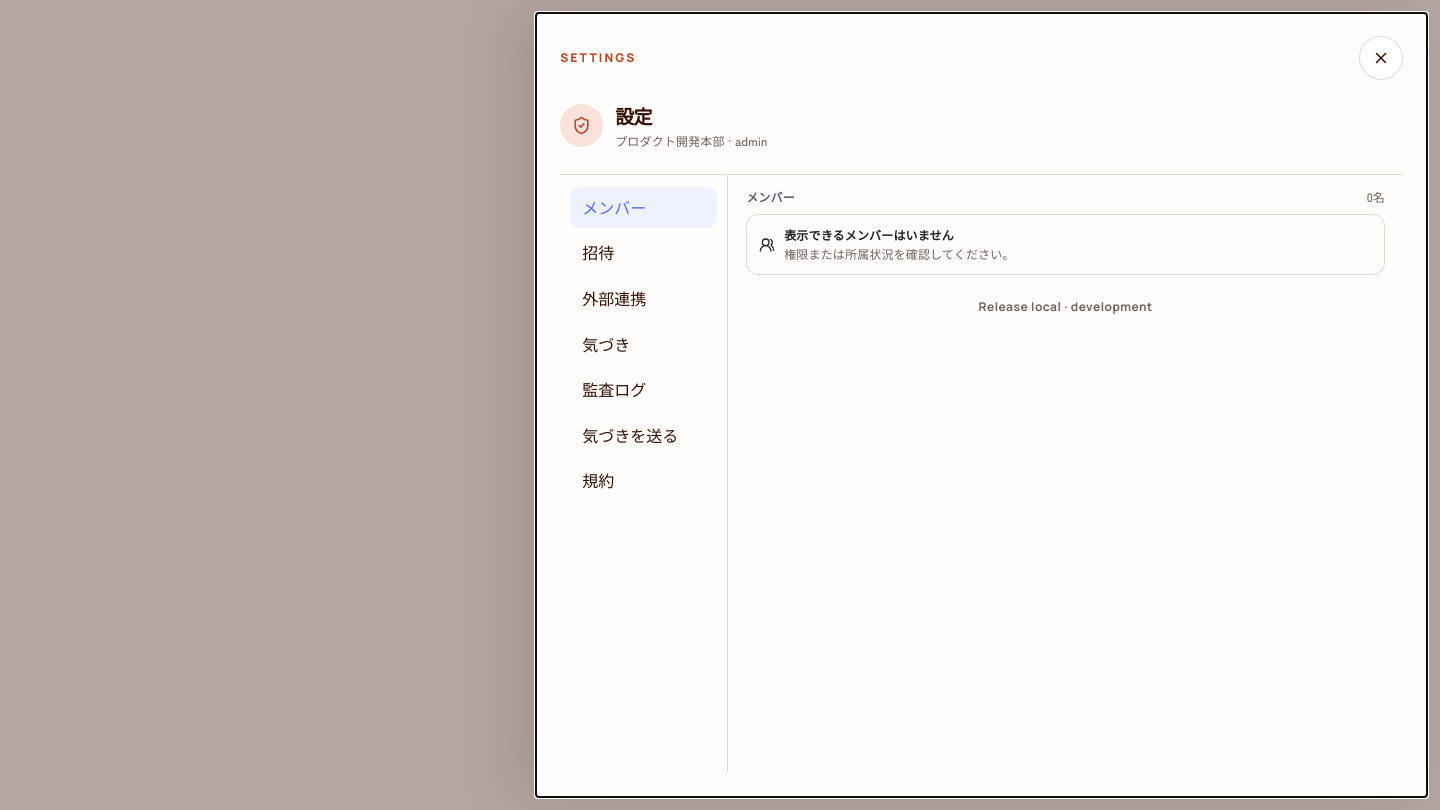
Test case: OperationsPanel invitation administration › resends a pending invitation with the same email and role
Click the button "招待" at point(644, 253), box 570,232 -> 717,274
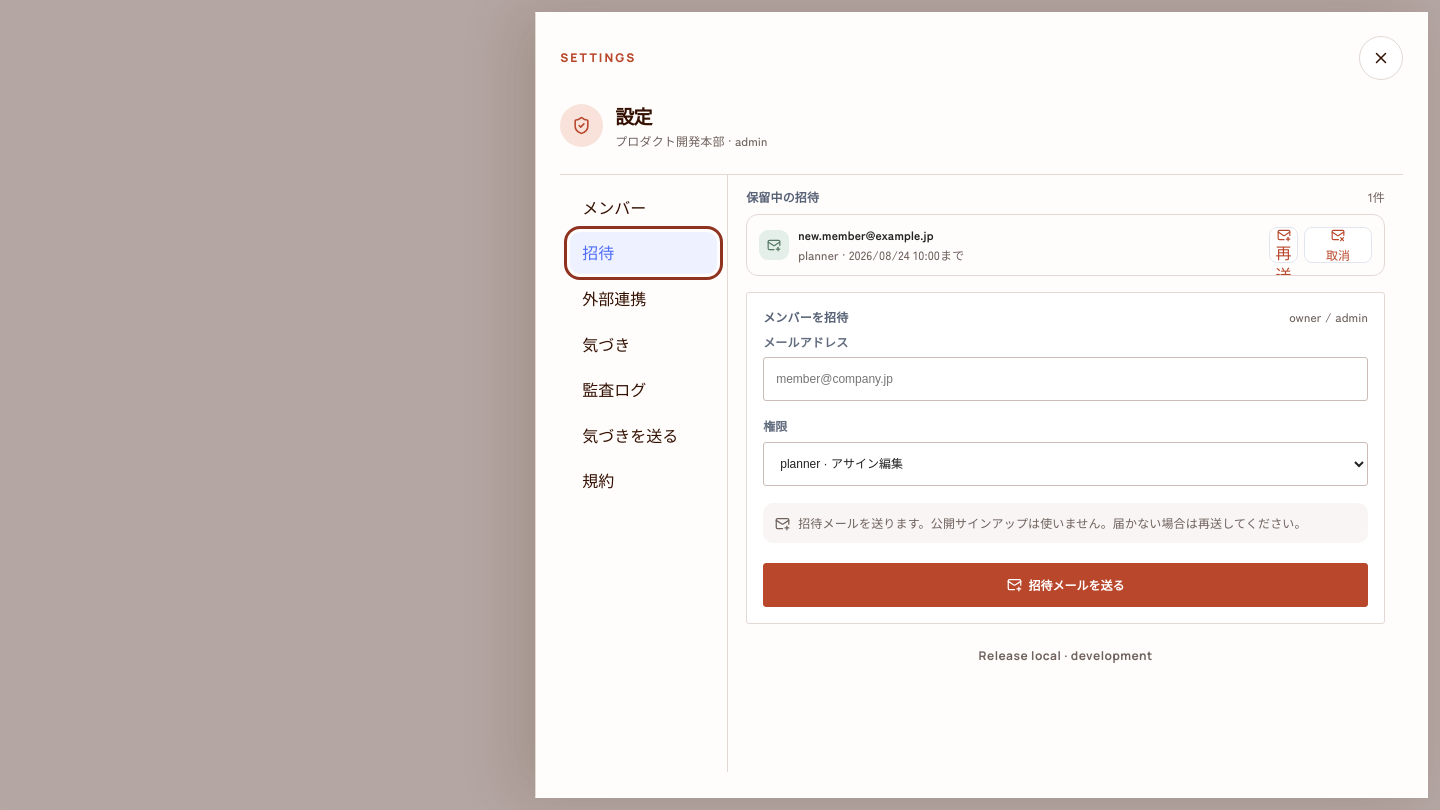
Click the button "再送" at point(1284, 245), box 1269,227 -> 1298,263
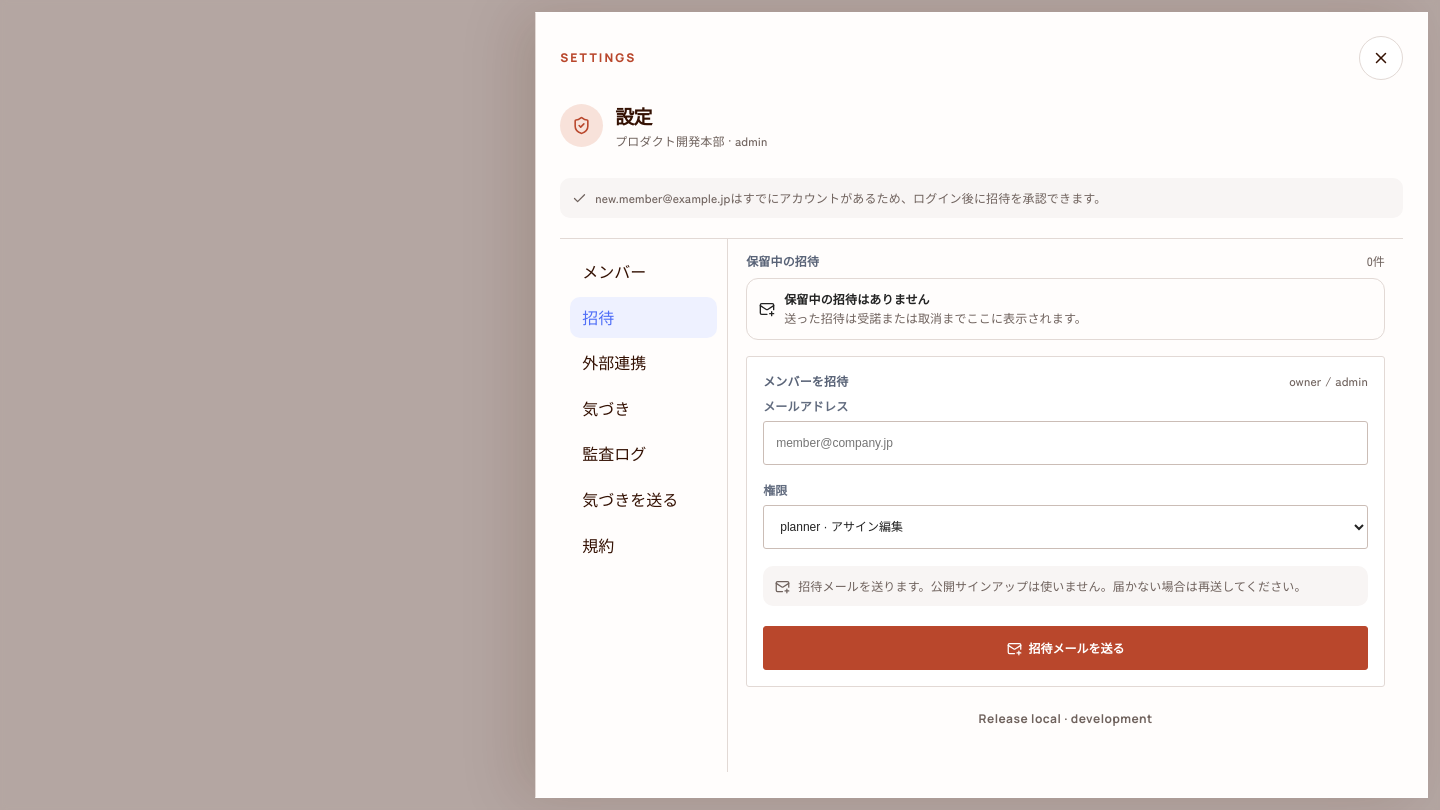
Result: the message shows "すでにアカウントがあるため" at 595,189 -> 1106,206
